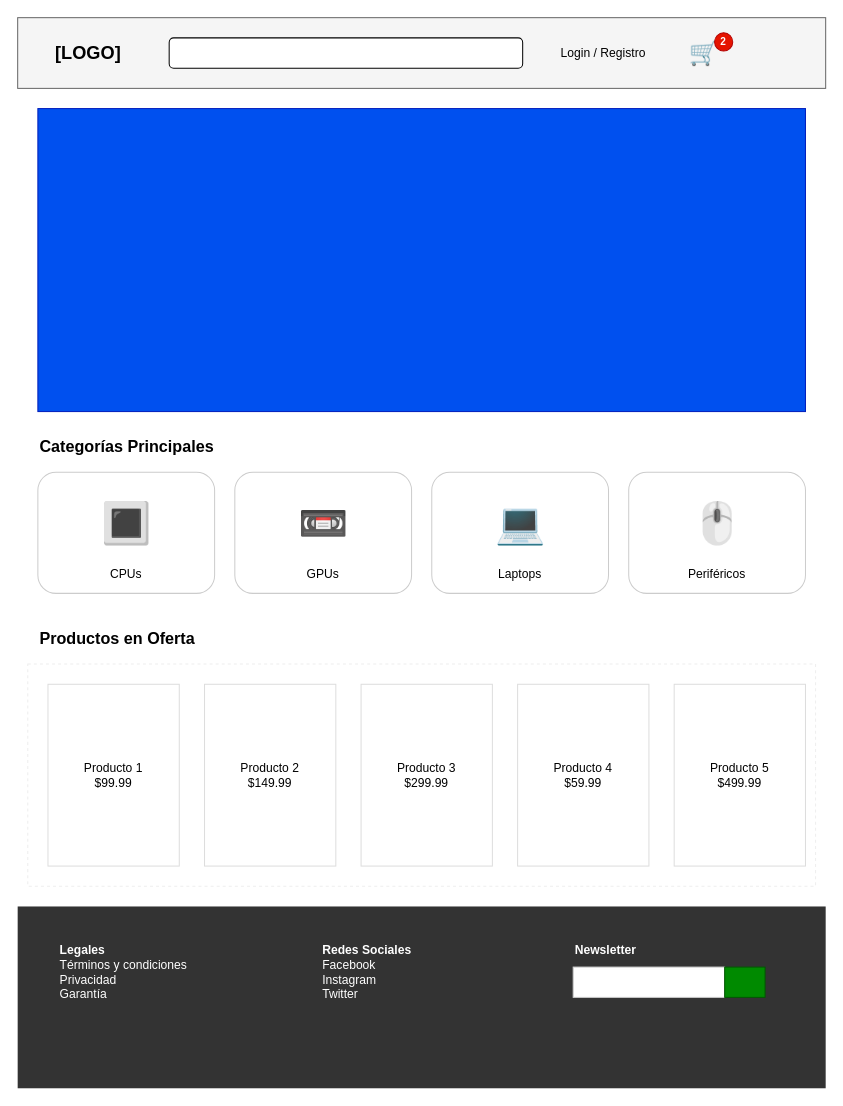
This 843x1106 diagram has some shape labels left out. The shapes that lost their labels are listed below. From the top down, each one's centre as x and y in pixels, then its label:
At point 345,52: "Buscador Inteligente...".
At point 421,260: "Último Lanzamiento Nuevos Procesadores de Última Generación".
At point 648,981: "Tu email aquí...".
At point 744,981: "OK".
